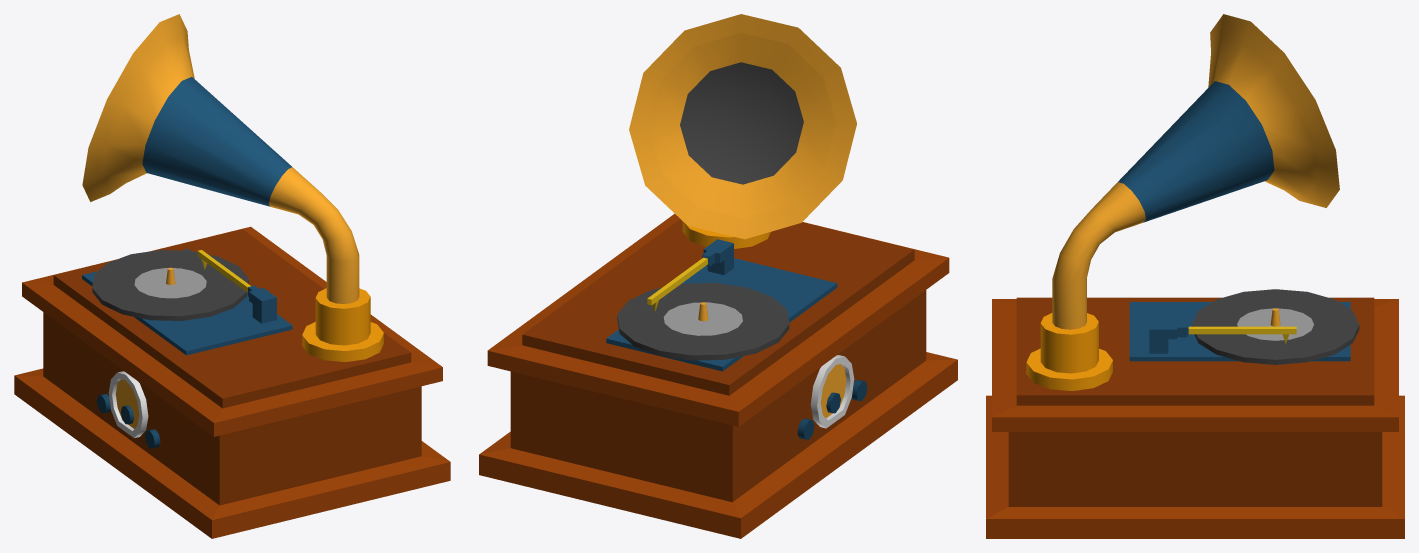
File: Vinyl_Record_Player.fbx
The picture shows the model from 3 angles, left to right: view 1: azimuth 30°, elevation 25°; view 2: azimuth 150°, elevation 25°; view 3: azimuth 270°, elevation 25°; orthographic projection. The views are drawn at different scales.
Visible parts, largest first — view 1: Vinyl_Record_Player; view 2: Vinyl_Record_Player; view 3: Vinyl_Record_Player.
Boxes of the visible parts, box(x1,y1,x2,y2) form: Vinyl_Record_Player: box(14, 14, 450, 538); Vinyl_Record_Player: box(479, 14, 957, 538); Vinyl_Record_Player: box(986, 14, 1404, 538).
Bounding box in the file's own units: 554 × 847 × 744.
